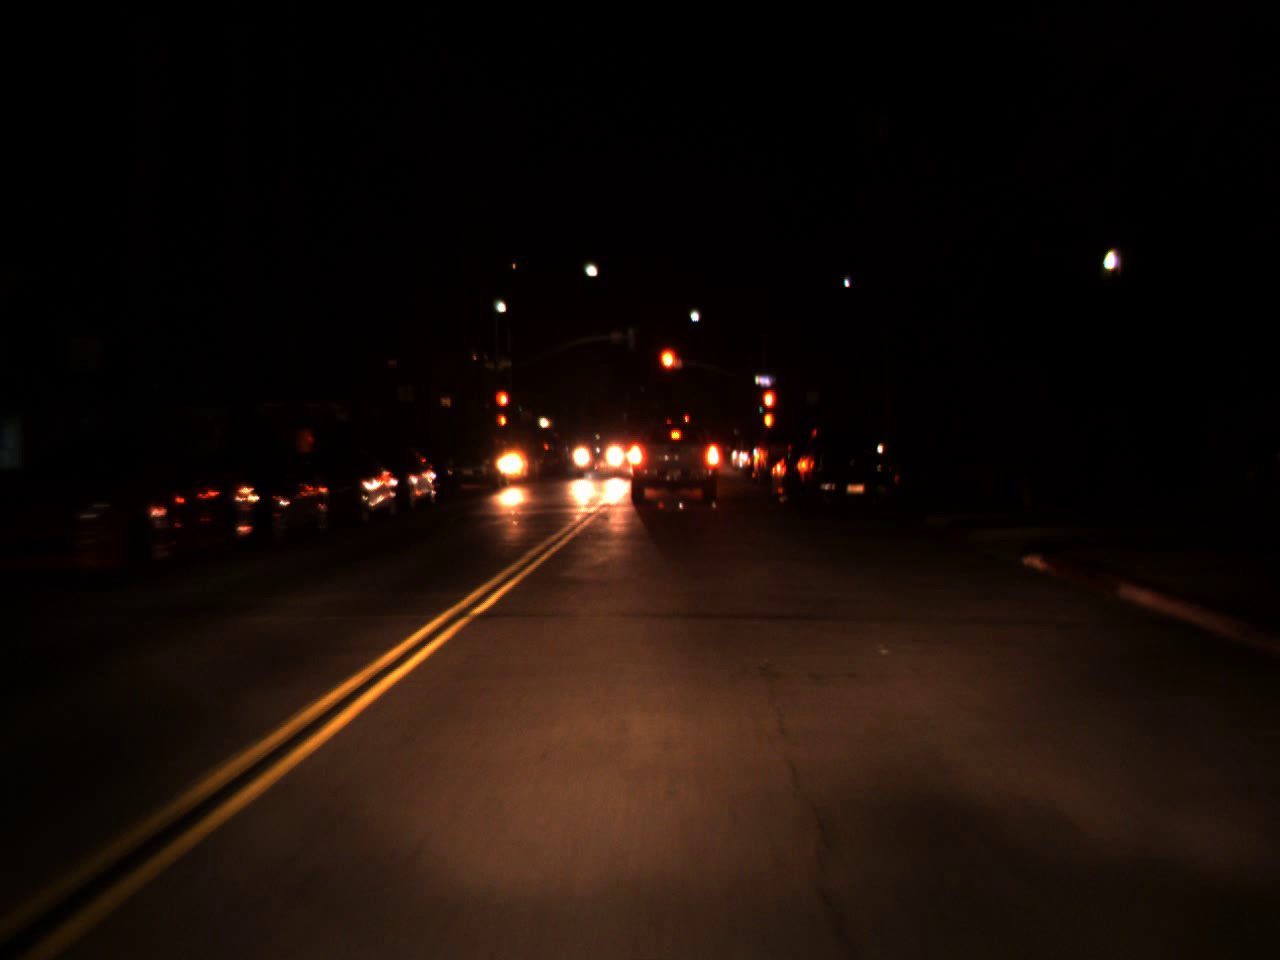stop: (657, 345, 679, 393), (761, 388, 777, 431), (493, 388, 511, 425)
